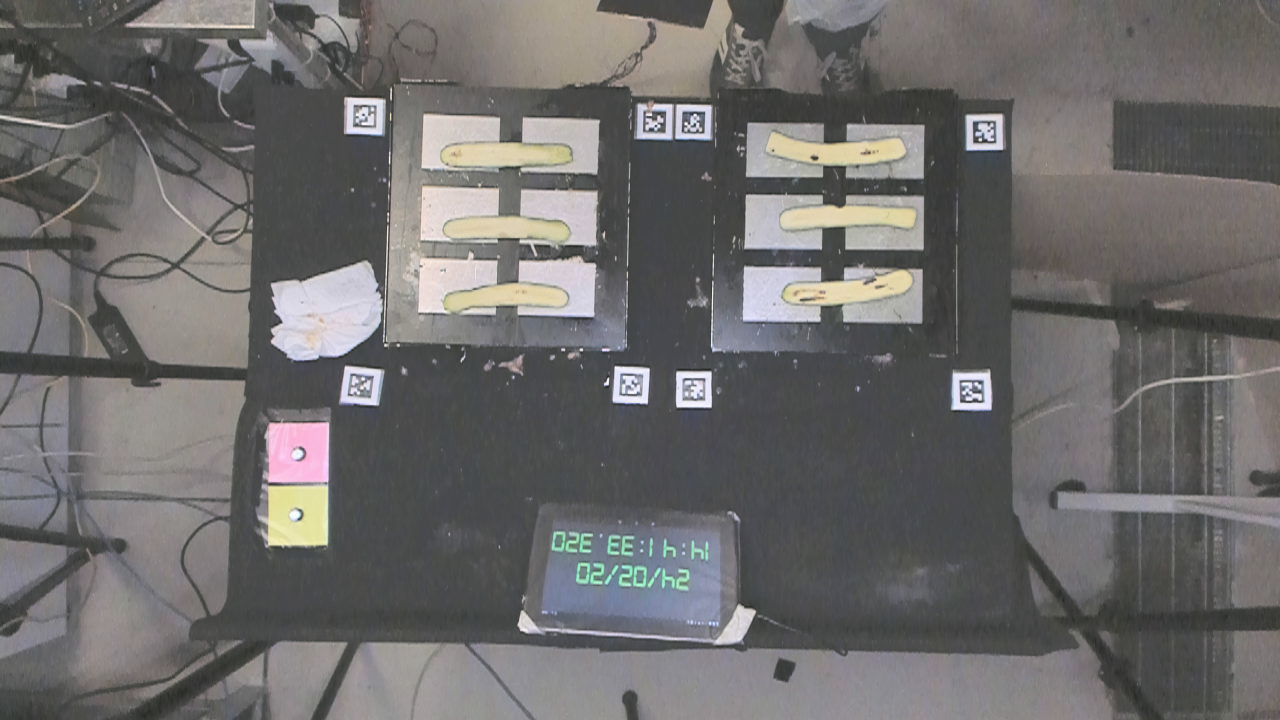marker: (263, 419, 332, 486)
zucchini: (764, 121, 915, 172), (770, 267, 922, 308), (782, 198, 921, 234), (433, 280, 574, 313), (437, 139, 574, 171), (444, 211, 571, 243)
